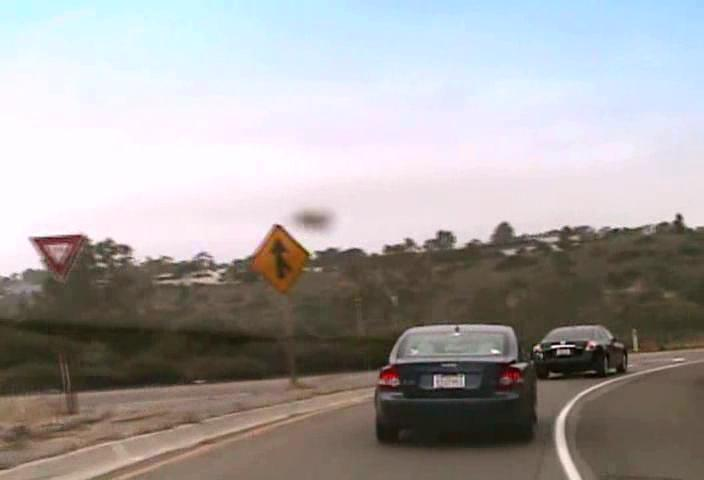yield: (28, 233, 85, 282)
